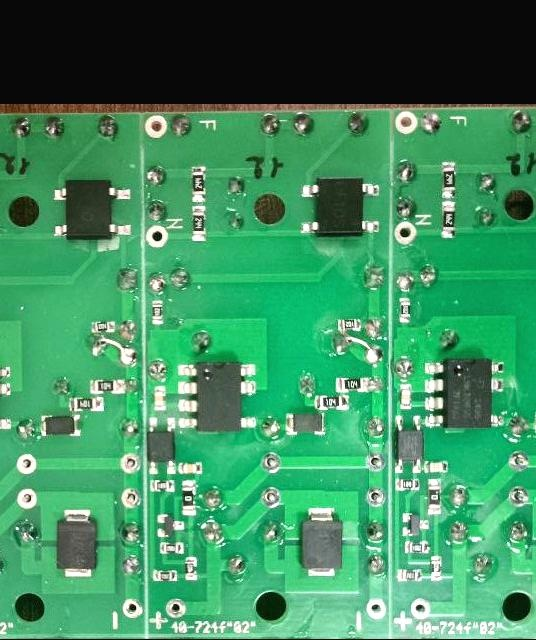chip-capacitor: (152, 384, 167, 411), (177, 460, 203, 474), (423, 459, 449, 473), (399, 382, 412, 410)
chip-resistor: (440, 199, 457, 238), (191, 163, 208, 201), (441, 158, 457, 198), (334, 375, 369, 393), (190, 204, 206, 243), (426, 476, 442, 515), (68, 395, 106, 411), (181, 477, 197, 515), (89, 378, 126, 394), (313, 394, 349, 410), (149, 477, 176, 492), (398, 296, 412, 324), (158, 540, 185, 554), (396, 567, 423, 581), (403, 539, 430, 553), (395, 476, 420, 491), (184, 555, 198, 581), (152, 569, 179, 582), (151, 298, 164, 325), (430, 554, 443, 581), (91, 319, 116, 333), (337, 317, 362, 331)
diode: (54, 506, 99, 578), (299, 505, 344, 577), (284, 410, 327, 435), (39, 412, 83, 436)
ic: (176, 356, 259, 432), (423, 356, 505, 428), (51, 176, 132, 240), (298, 175, 381, 237), (147, 414, 178, 474), (394, 413, 422, 473)
transistor: (155, 512, 186, 537), (401, 511, 430, 537)
